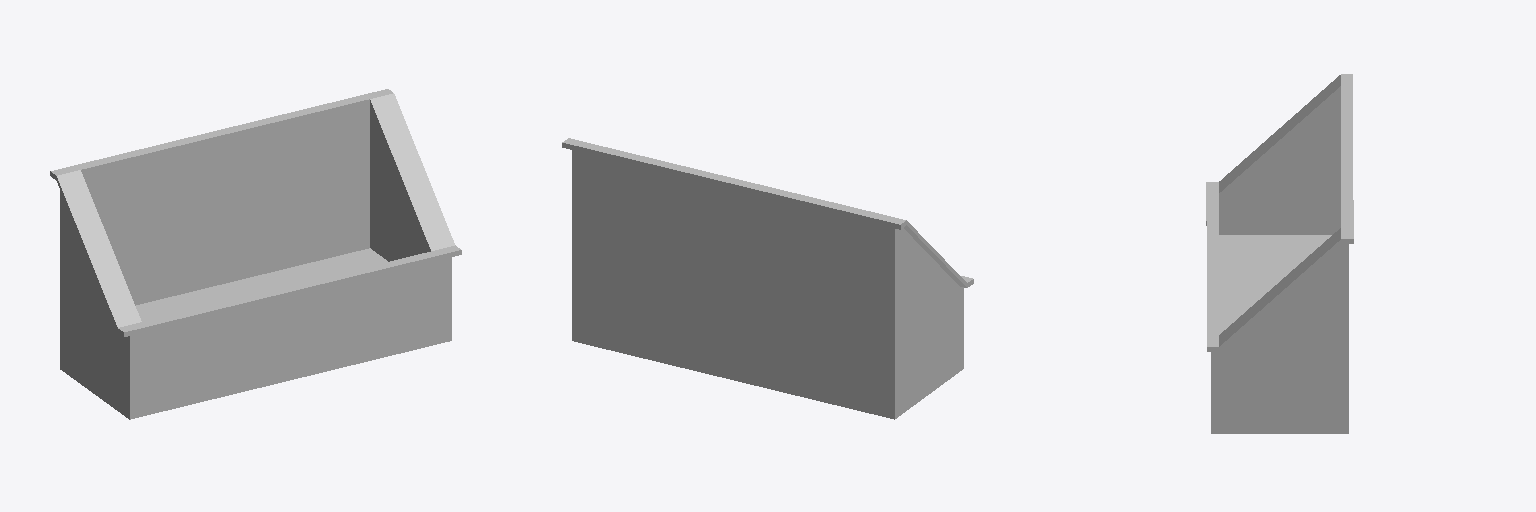
The model's file is meatshelf.obj.
The picture shows the model from 3 angles: view 1: azimuth 30°, elevation 25°; view 2: azimuth 150°, elevation 25°; view 3: azimuth 270°, elevation 25°; orthographic projection.
Visible parts, largest first — view 1: Container:initialShadingGroup Container:initialShadingGroup1 Con, Container:polySurface1; view 2: Container:initialShadingGroup Container:initialShadingGroup1 Con; view 3: Container:initialShadingGroup Container:initialShadingGroup1 Con, Container:polySurface1.
Boxes of the visible parts, box(x1,y1,x2,y2) form: Container:initialShadingGroup Container:initialShadingGroup1 Con: box(50, 89, 461, 419); Container:polySurface1: box(370, 95, 446, 250); Container:initialShadingGroup Container:initialShadingGroup1 Con: box(562, 138, 973, 419); Container:initialShadingGroup Container:initialShadingGroup1 Con: box(1206, 74, 1353, 433); Container:polySurface1: box(1219, 228, 1340, 342).
Size of the model in its own units: 12.44 by 6.97 by 4.69.